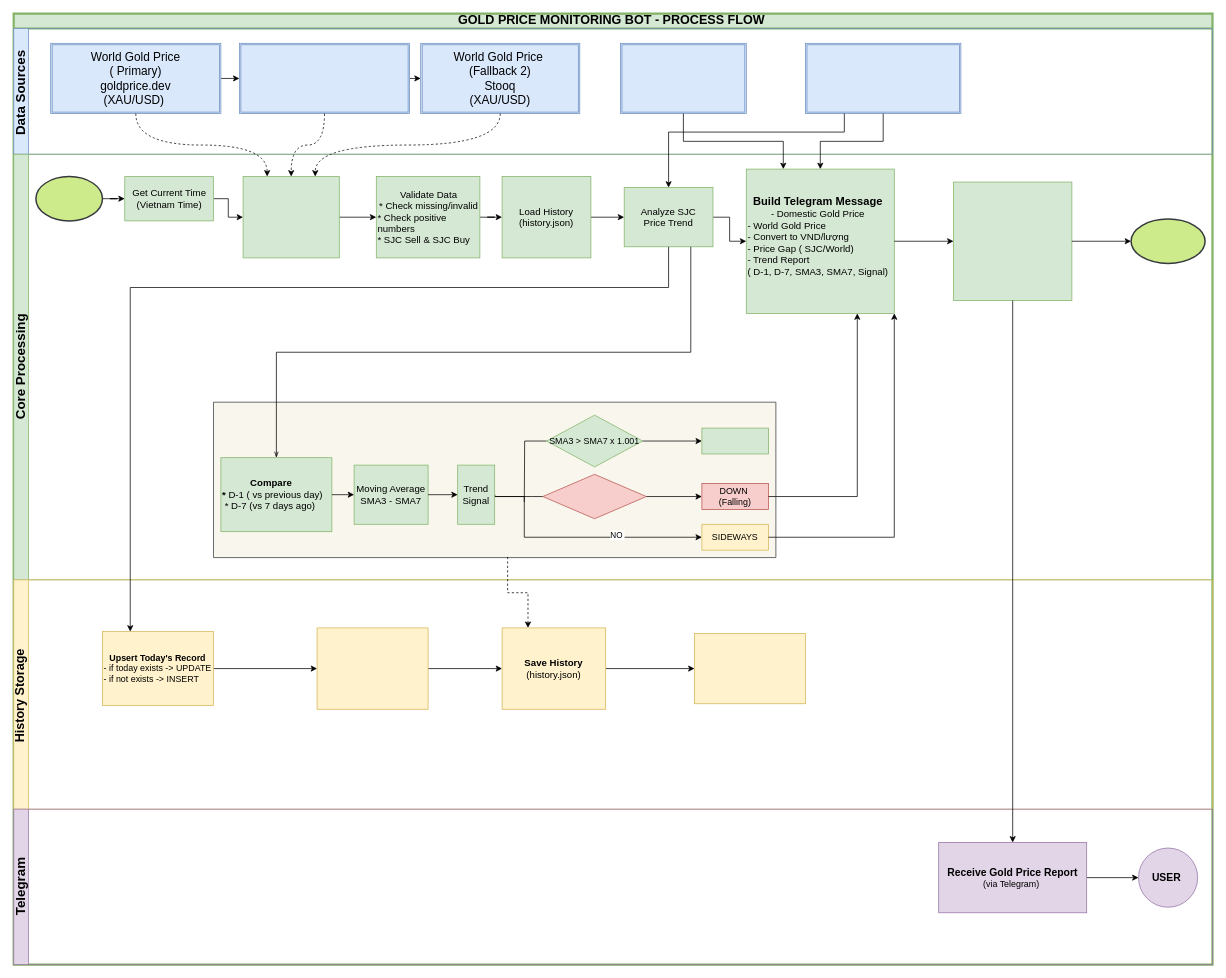
This 1226x978 diagram has some shape labels left out. Here are the shapes that lost their labels. From the top down, the centre of each, then its label:
(324,78): World Gold Price (Fallback 1) GoldAPI.io (if API key available)
(683,78): Exchange Rate USD/VND open.er-api.com
(883,78): Domestic Gold Price ( SJC/ DOJI/ PNJ) giavang.org
(69,198): START
(290,217): Collect Market Data (Fetch Prices & Rate)
(1012,240): Send Telegram Notification - Send to configured Telegram Chat
(1167,241): END
(734,440): YES
(594,496): SMA3 < SMA7 x 0.999
(372,668): Keep Only Last 90 Days (Automatic Clean up)
(749,668): Return Updated History
